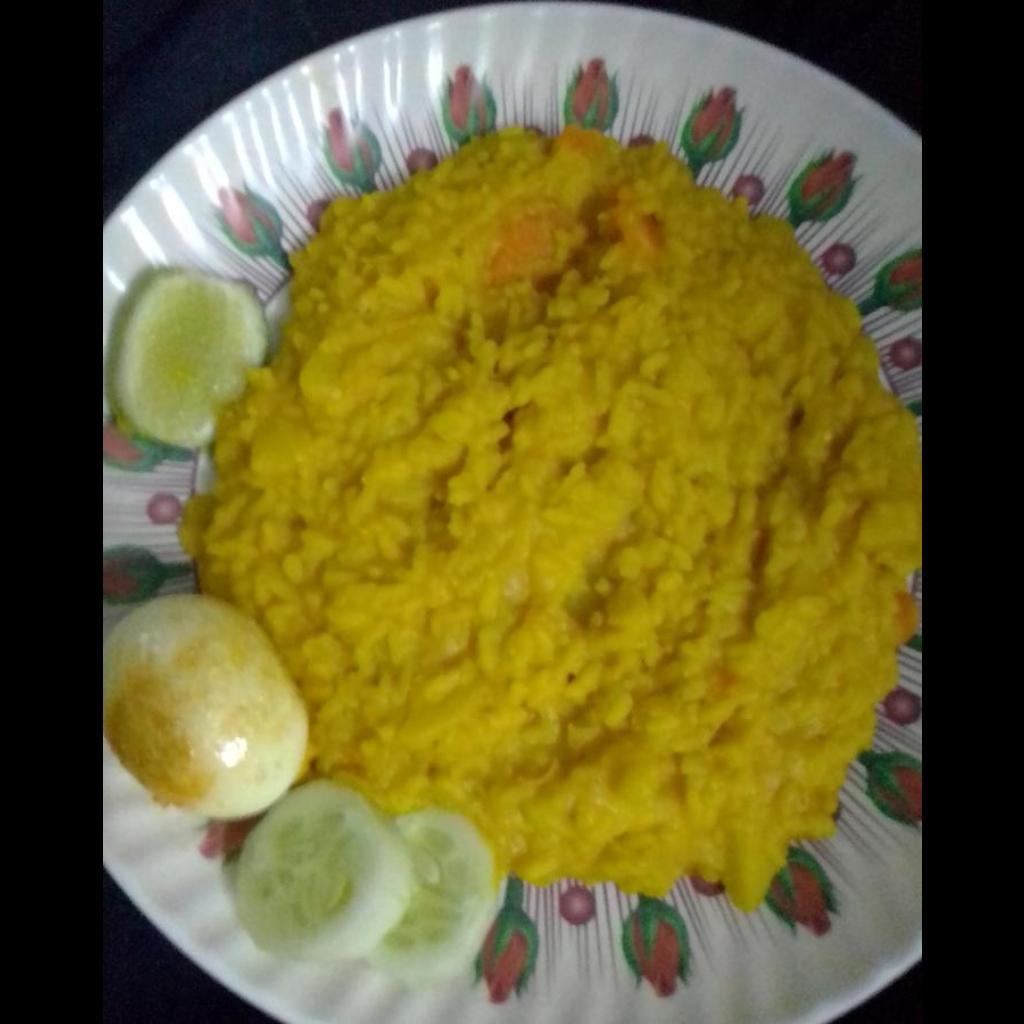cucumber: (240, 778, 503, 979)
egg-boiled: (102, 595, 307, 820)
khichuri: (202, 130, 920, 917)
lemon: (110, 267, 266, 451)
